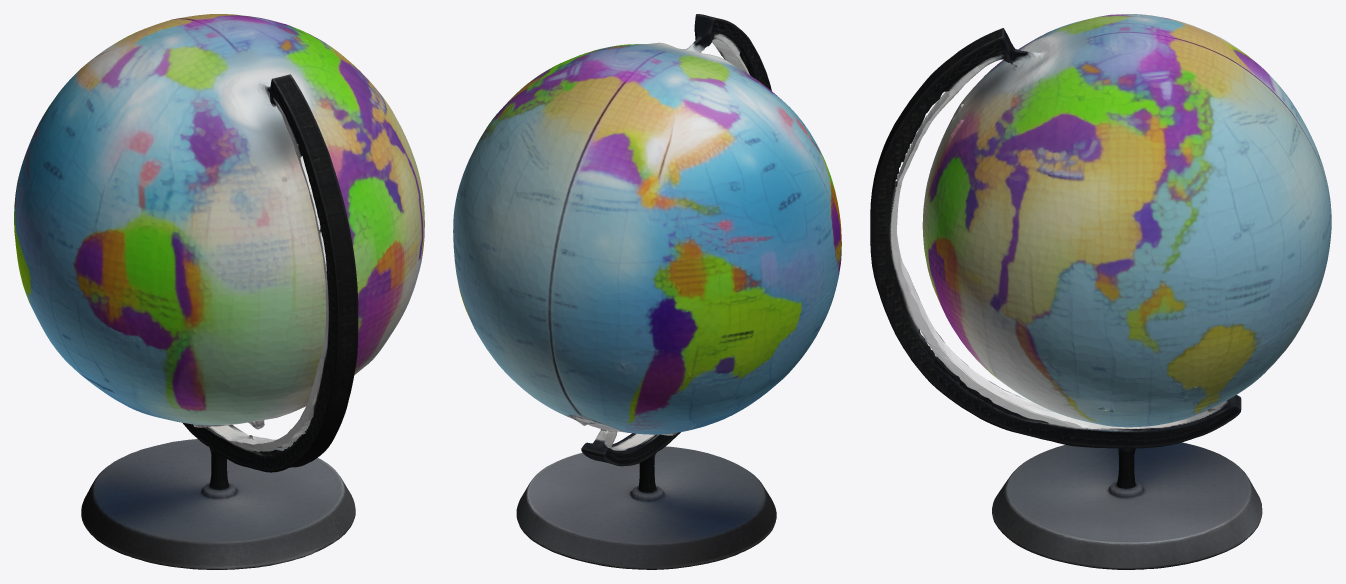
File: globe.glb
3 views of the same model, side by side, from view 1: azimuth 30°, elevation 25°; view 2: azimuth 150°, elevation 25°; view 3: azimuth 270°, elevation 25° (orthographic). The views are drawn at different scales.
Visible parts, largest first — view 1: world; view 2: world; view 3: world.
Boxes of the visible parts, x1,y1,x2,y2 form: world: [14, 14, 424, 569]; world: [453, 14, 841, 569]; world: [870, 14, 1331, 569].
Size of the model in its own units: 0.7719 by 0.9975 by 0.8688.
Materials: 1 (1 with a texture image).
